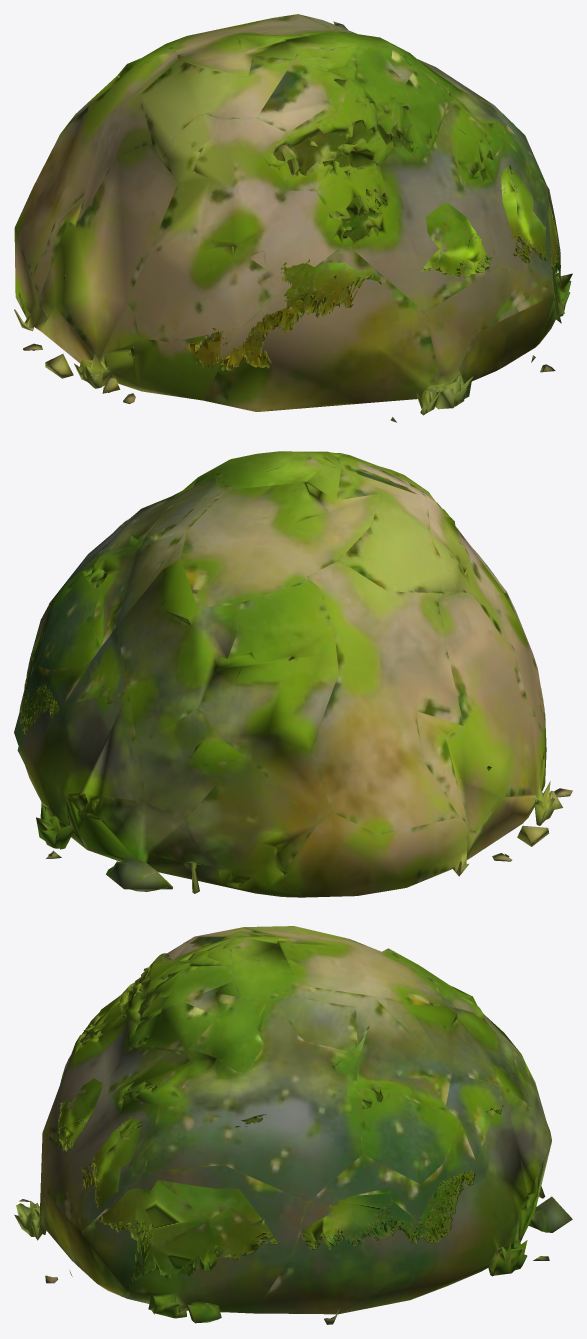
3 renders of one model, top to bottom at view 1: azimuth 30°, elevation 25°; view 2: azimuth 150°, elevation 25°; view 3: azimuth 270°, elevation 25°, orthographic. The views are drawn at different scales.
Visible parts, largest first — view 1: world; view 2: world; view 3: world.
Boxes of the visible parts, left/top/right/bottom form: world: left=14, top=14, right=572, bottom=422; world: left=14, top=451, right=572, bottom=897; world: left=14, top=926, right=572, bottom=1324.
Size of the model in its own units: 0.9229 by 0.5366 by 0.9861.
Materials: 1 (1 with a texture image).
